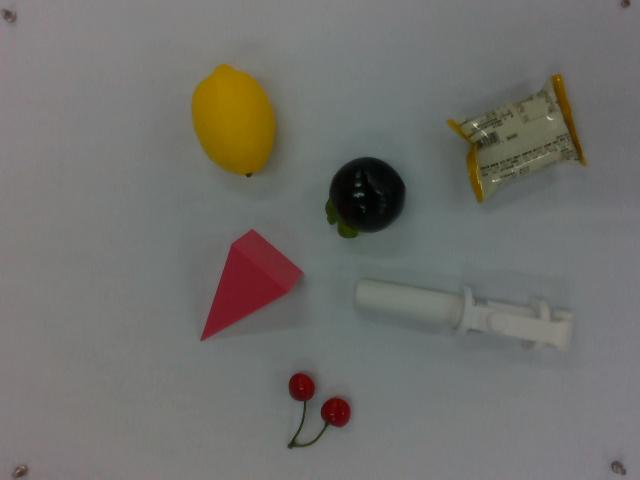cherry: (282, 370, 353, 453)
dessert: (443, 78, 589, 203)
lemon: (189, 60, 277, 185)
mangosteen: (326, 155, 408, 240)
pyramid: (198, 229, 304, 344)
selfiestick: (352, 275, 577, 354)
